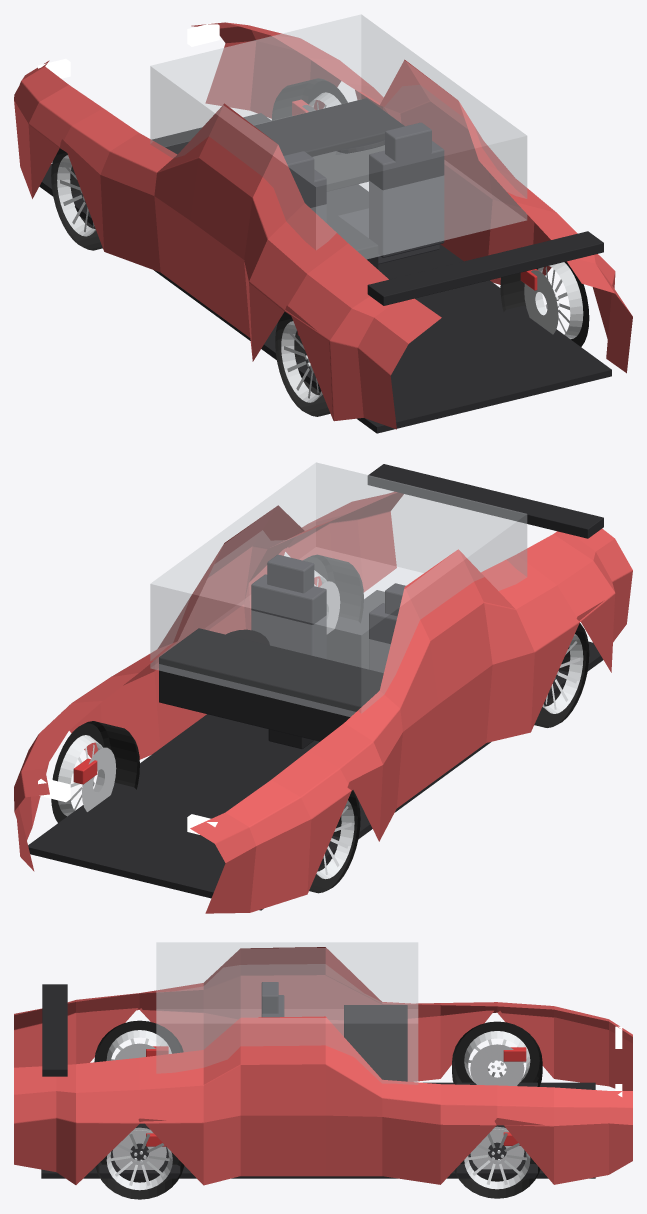
The model's file is Car_Audi_Quattro_1980s.glb.
The picture shows the model from 3 angles, top to bottom: view 1: azimuth 30°, elevation 25°; view 2: azimuth 150°, elevation 25°; view 3: azimuth 270°, elevation 25°; orthographic projection. The views are drawn at different scales.
Visible parts, largest first — view 1: BODY_AudiQuattro_MainShell, GLASS_AudiQuattro, CHASSIS_BellyPan, INTERIOR_BucketSeats, INTERIOR_Dashboard, AERO_AudiQuattro_Spoiler, WHEEL_RL_Rim, WHEEL_RR_Rim, WHEEL_RR_Tire, WHEEL_FL_Tire, WHEEL_FR_Rim, WHEEL_RL_Tire (+3 smaller); view 2: BODY_AudiQuattro_MainShell, GLASS_AudiQuattro, CHASSIS_BellyPan, INTERIOR_Dashboard, INTERIOR_BucketSeats, AERO_AudiQuattro_Spoiler, WHEEL_FL_Tire, WHEEL_RL_Tire, WHEEL_FL_Rim, WHEEL_RR_Rim, WHEEL_RR_Tire, BRAKE_FL_Rotor (+3 smaller); view 3: BODY_AudiQuattro_MainShell, GLASS_AudiQuattro, INTERIOR_Dashboard, CHASSIS_BellyPan, AERO_AudiQuattro_Spoiler, WHEEL_FR_Tire, BRAKE_FR_Rotor, WHEEL_RL_Rim, WHEEL_FL_Rim, WHEEL_RR_Tire, BRAKE_RL_Rotor, WHEEL_RL_Tire (+6 smaller).
Part boxes in pixels (x1,y1,x2,y2): BODY_AudiQuattro_MainShell: (14, 22, 632, 429); GLASS_AudiQuattro: (150, 14, 527, 259); CHASSIS_BellyPan: (39, 113, 611, 433); INTERIOR_BucketSeats: (283, 122, 444, 264); INTERIOR_Dashboard: (165, 98, 404, 269); AERO_AudiQuattro_Spoiler: (367, 231, 603, 305); WHEEL_RL_Rim: (535, 262, 583, 339); WHEEL_RR_Rim: (281, 321, 322, 402); WHEEL_RR_Tire: (275, 311, 330, 416); WHEEL_FL_Tire: (271, 78, 347, 120); WHEEL_FR_Rim: (57, 155, 95, 236); WHEEL_RL_Tire: (500, 261, 589, 346); BODY_AudiQuattro_MainShell: (14, 492, 632, 913); GLASS_AudiQuattro: (150, 462, 527, 716); CHASSIS_BellyPan: (28, 590, 603, 910); INTERIOR_Dashboard: (159, 628, 383, 748); INTERIOR_BucketSeats: (251, 554, 405, 672); AERO_AudiQuattro_Spoiler: (367, 464, 603, 538); WHEEL_FL_Tire: (51, 721, 139, 822); WHEEL_RL_Tire: (303, 554, 363, 623); WHEEL_FL_Rim: (58, 735, 104, 816); WHEEL_RR_Rim: (542, 634, 583, 713); WHEEL_RR_Tire: (534, 623, 589, 727); BRAKE_FL_Rotor: (82, 747, 116, 811); BODY_AudiQuattro_MainShell: (14, 947, 632, 1185); GLASS_AudiQuattro: (156, 942, 418, 1084); INTERIOR_Dashboard: (344, 1005, 407, 1081); CHASSIS_BellyPan: (41, 1082, 595, 1178); AERO_AudiQuattro_Spoiler: (42, 984, 67, 1076); WHEEL_FR_Tire: (452, 1021, 542, 1086); BRAKE_FR_Rotor: (470, 1044, 524, 1085); WHEEL_RL_Rim: (106, 1130, 172, 1190); WHEEL_FL_Rim: (464, 1129, 530, 1189); WHEEL_RR_Tire: (94, 1020, 183, 1062); BRAKE_RL_Rotor: (112, 1127, 166, 1169); WHEEL_RL_Tire: (95, 1153, 184, 1199).
Bounding box in the file's own units: 1.9 × 1.32 × 4.37.
